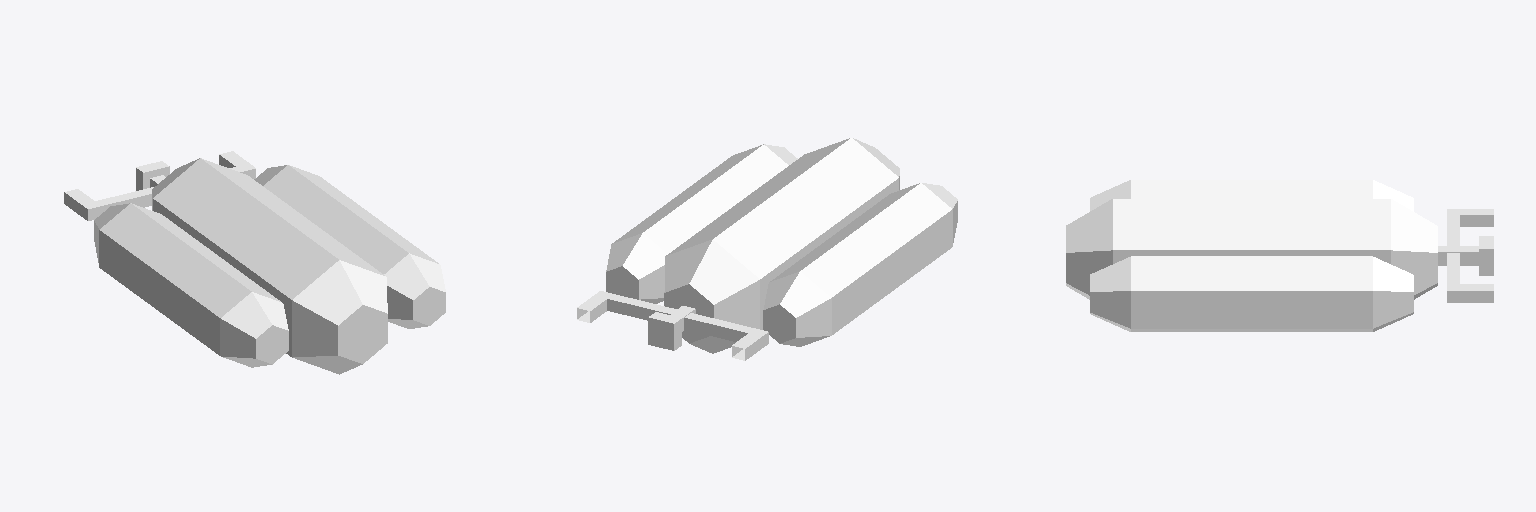
The model's file is acs36.obj.
3 views of the same model, side by side, from view 1: azimuth 30°, elevation 25°; view 2: azimuth 150°, elevation 25°; view 3: azimuth 270°, elevation 25° (orthographic).
Visible parts, largest first — view 1: frm-main_tank, frm-r_tank, frm-l_tank, frm-pipe, frm-valve_knob; view 2: frm-main_tank, frm-r_tank, frm-l_tank, frm-pipe, frm-valve_knob; view 3: frm-l_tank, frm-main_tank, frm-r_tank, frm-pipe, frm-valve_stem, frm-valve_knob.
Boxes of the visible parts, x1=… form: frm-main_tank: x1=152, y1=158, x2=387, y2=374; frm-r_tank: x1=94, y1=203, x2=288, y2=367; frm-l_tank: x1=254, y1=165, x2=445, y2=328; frm-pipe: x1=64, y1=151, x2=255, y2=220; frm-valve_knob: x1=136, y1=161, x2=169, y2=190; frm-main_tank: x1=664, y1=138, x2=899, y2=353; frm-r_tank: x1=763, y1=183, x2=957, y2=346; frm-l_tank: x1=606, y1=144, x2=797, y2=303; frm-pipe: x1=577, y1=291, x2=768, y2=360; frm-valve_knob: x1=648, y1=312, x2=681, y2=350; frm-l_tank: x1=1090, y1=256, x2=1413, y2=331; frm-main_tank: x1=1066, y1=199, x2=1437, y2=299; frm-r_tank: x1=1090, y1=180, x2=1413, y2=211; frm-pipe: x1=1447, y1=209, x2=1493, y2=302; frm-valve_stem: x1=1438, y1=246, x2=1478, y2=265; frm-valve_knob: x1=1479, y1=236, x2=1493, y2=275.
Size of the model in its own units: 0.3261 by 0.1625 by 0.5502.